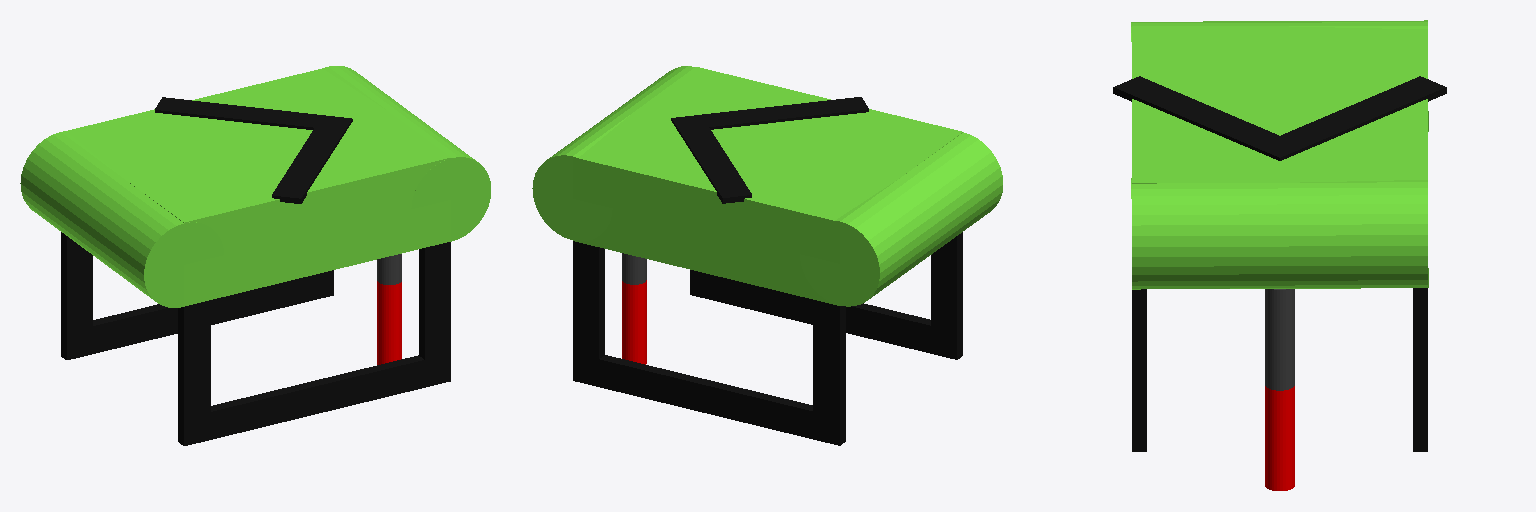
The robot description file, URDF, robot "toy_vehicle":
<robot name="toy_vehicle">

<!-- Materials -->
    <material name="gray">
        <color rgba="0.3 0.3 0.3 1"/>
    </material>
    <material name="transparent" >
        <color rgba="0.3 0.3 0.3 0.25" />
    </material>
    <material name="red" >
        <color rgba="1 0 0 0.8" />
    </material>
    <material name="green">
        <color rgba="0.5 0.9 0.3 1"/>
    </material>
    <material name="black">
        <color rgba=".1 .1 .1 1"/>
    </material>

<!-- Links -->
    <link name="base_link"/>

    <joint name="pitch_joint" type="revolute">
        <!-- <origin rpy="0 0 0" xyz="0 0 0"/> -->
        <parent link="base_link"/>
        <child link="vehicle"/>
        <origin rpy="0 0 0" xyz="0 0 0"/>
        <axis xyz="0 1 0"/>
    </joint>
  
    <link name="vehicle">
        <visual>
            <geometry>
                <box size="0.5 0.4 0.15"/>
            </geometry>
            <!-- <origin rpy="1.57075 0 0" xyz="0 0 0"/> -->
            <material name="green"/>
        </visual>
        <inertial>
            <!-- Actual *not added* -->
            <mass value="22.2"/> 
            <!-- Assume COM is 6cm below the center of the green box (13.5cm from top of vehicle) -->
            <origin xyz="0.0 0.0 -0.06"/>
            <inertia ixx=".75" ixy="0.0" ixz="0.0" iyy="1.4" iyz="0.0" izz="1.6"/>
        </inertial>
    </link>

    <joint name="joint1" type="revolute">
        <parent link="vehicle"/>
        <child link="link1"/>
        <origin rpy="0 0 0" xyz="0.25 0 -0.075"/>
        <axis xyz="0 1 0"/>
    </joint>

    <link name="link1">
        <visual>
            <geometry>
                <cylinder length="0.15" radius="0.020"/>
            </geometry>
            <material name="gray"/>
            <origin rpy="0 0 0" xyz="0 0 -.075"/>
        </visual>
        <inertial>
            <mass value="0.53"/>
            <origin xyz="0 0 -.075"/>
            <inertia ixx="0.00104" ixy="0." ixz="0." 
            iyy="0.00104" iyz="0.0" 
            izz="0.000106"/>
        </inertial>
    </link>

    <joint name="joint2" type="revolute">
        <parent link="link1"/>
        <child link="link2"/>
        <origin rpy="0 0 0" xyz="0 0 -.15"/>
        <axis xyz="0 1 0"/>
    </joint>

    <link name="link2">
        <visual>
            <geometry>
                <cylinder length="0.15" radius="0.020"/>
            </geometry>
            <material name="red"/>
            <origin rpy="0 0 0" xyz="0 0 -.075"/>
        </visual>
        <inertial>
            <mass value="0.53"/>
            <origin xyz="0 0 -.075"/>
            <inertia ixx="0.00104" ixy="0." ixz="0." 
            iyy="0.00104" iyz="0.0" 
            izz="0.000106"/>
        </inertial>
    </link>


<!-- Extra vehicle visuals -->
    <!-- Bumpers -->
    <link name="front_bumper">
        <visual>
        <geometry>
            <cylinder length="0.4" radius="0.075"/>
        </geometry>
        <material name="green"/>
        </visual>
    </link>

    <joint name="fbump_link" type="fixed">
        <parent link="vehicle"/>
        <child link="front_bumper"/>
        <origin rpy="1.57579632679 0 0" xyz="0.25 0 0"/>
    </joint>

    <link name="rear_bumper">
        <visual>
            <geometry>
            <cylinder length="0.4" radius="0.075"/>
            </geometry>
            <material name="green"/>
        </visual>
    </link>

    <joint name="rbump_link" type="fixed">
        <parent link="vehicle"/>
        <child link="rear_bumper"/>
        <origin rpy="1.57579632679 0 0" xyz="-0.25 0 0"/>
    </joint>

    <!-- Arrow -->
    <link name="l_arrow">
        <visual>
        <geometry>
            <box size="0.05 0.318 0.01"/>
        </geometry>
        <material name="black"/>
        </visual>
    </link>
    <joint name="l_arrow_link" type="fixed">
        <parent link="vehicle"/>
        <child link="l_arrow"/>
        <origin rpy="0 0 0.787898163397" xyz="0.05 0.095 0.075"/>
    </joint>
    <link name="r_arrow">
        <visual>
            <geometry>
                <box size="0.05 0.318 0.01"/>
            </geometry>
        <material name="black"/>
        </visual>
    </link>
    <joint name="r_arrow_link" type="fixed">
        <parent link="vehicle"/>
        <child link="r_arrow"/>
        <origin rpy="0 0 -0.787898163397" xyz="0.05 -0.095 0.075"/>
    </joint>

    <!-- Frame -->
    <link name="F_R_bar">
        <visual>
        <geometry>
            <box size = "0.25 0.02 0.05"/>
        </geometry>
        <material name="black"/>
        </visual>
    </link>
    <joint name="FRBarJoint" type="fixed">
        <parent link="vehicle"/>
        <child link="F_R_bar"/>
        <origin rpy="0 1.57075 0" xyz="0.225 -.19 -.2"/>
    </joint>
    <link name="F_L_bar">
        <visual>
        <geometry>
            <box size = "0.25 0.02 0.05"/>
        </geometry>
        <material name="black"/>
        </visual>
    </link>
        <joint name="FLBarJoint" type="fixed">
        <parent link="vehicle"/>
        <child link="F_L_bar"/>
        <origin rpy="0 1.57075 0" xyz="0.225 .19 -.2"/>
        </joint>
    <link name="B_L_bar">
        <visual>
            <geometry>
            <box size = "0.25 0.02 0.05"/>
            </geometry>
            <material name="black"/>
        </visual>
    </link>
        <joint name="BLBarJoint" type="fixed">
        <parent link="vehicle"/>
        <child link="B_L_bar"/>
        <origin rpy="0 1.57075 0" xyz="-0.225 .19 -.2"/>
        </joint>
    <link name="B_R_bar">
        <visual>
        <geometry>
            <box size = "0.25 0.02 0.05"/>
        </geometry>
        <material name="black"/>
        </visual>
    </link>
        <joint name="BRBarJoint" type="fixed">
        <parent link="vehicle"/>
        <child link="B_R_bar"/>
        <origin rpy="0 1.57075 0" xyz="-0.225 -.19 -.2"/>
        </joint>
    <link name="R_bar">
        <visual>
        <geometry>
            <box size = "0.5 0.02 0.05"/>
        </geometry>
        <material name="black"/>
        </visual>
    </link>
        <joint name="RBarJoint" type="fixed">
        <parent link="vehicle"/>
        <child link="R_bar"/>
        <origin rpy="0 0 0" xyz="0 -.19 -.3"/>
        </joint>
    <link name="L_bar">
        <visual>
        <geometry>
            <box size = "0.5 0.02 0.05"/>
        </geometry>
        <material name="black"/>
        </visual>
    </link>
        <joint name="LBarJoint" type="fixed">
        <parent link="vehicle"/>
        <child link="L_bar"/>
        <origin rpy="0 0 0" xyz="0 .19 -.3"/>
        </joint>


</robot>

--- Render facts (derived) ---
Views: 3 orthographic renders of the robot side by side, from view 1: azimuth 30°, elevation 25°; view 2: azimuth 150°, elevation 25°; view 3: azimuth 270°, elevation 25°.
Robot: toy_vehicle — 14 links, 13 joints (3 revolute, 10 fixed); root link base_link; default pose: all joints at 0.
Visible links, largest first — view 1: vehicle, rear_bumper, R_bar, L_bar, front_bumper, F_R_bar, B_R_bar, B_L_bar, r_arrow, l_arrow, link2, link1; view 2: vehicle, rear_bumper, L_bar, R_bar, front_bumper, F_L_bar, B_L_bar, r_arrow, B_R_bar, l_arrow, link2, link1 (+1 smaller); view 3: vehicle, front_bumper, l_arrow, r_arrow, link2, link1, F_L_bar, F_R_bar, rear_bumper.
Link boxes in pixels (bbox=[...]): vehicle: bbox=[67, 68, 450, 306]; rear_bumper: bbox=[20, 131, 223, 307]; R_bar: bbox=[178, 355, 439, 445]; L_bar: bbox=[61, 271, 333, 359]; front_bumper: bbox=[323, 66, 490, 241]; F_R_bar: bbox=[419, 242, 450, 387]; B_R_bar: bbox=[178, 300, 210, 445]; B_L_bar: bbox=[61, 232, 92, 359]; r_arrow: bbox=[272, 116, 352, 203]; l_arrow: bbox=[155, 97, 351, 129]; link2: bbox=[377, 281, 401, 364]; link1: bbox=[377, 254, 401, 284]; vehicle: bbox=[573, 67, 962, 305]; rear_bumper: bbox=[800, 132, 1002, 306]; L_bar: bbox=[575, 355, 845, 445]; R_bar: bbox=[690, 272, 962, 359]; front_bumper: bbox=[532, 66, 694, 241]; F_L_bar: bbox=[573, 241, 604, 383]; B_L_bar: bbox=[813, 300, 845, 433]; r_arrow: bbox=[672, 97, 868, 129]; B_R_bar: bbox=[931, 232, 962, 354]; l_arrow: bbox=[671, 115, 751, 203]; link2: bbox=[622, 280, 646, 364]; link1: bbox=[622, 253, 646, 284]; vehicle: bbox=[1132, 26, 1427, 183]; front_bumper: bbox=[1131, 178, 1428, 289]; l_arrow: bbox=[1256, 76, 1446, 160]; r_arrow: bbox=[1113, 76, 1295, 160]; link2: bbox=[1265, 386, 1294, 490]; link1: bbox=[1265, 289, 1294, 390]; F_L_bar: bbox=[1413, 288, 1427, 451]; F_R_bar: bbox=[1132, 289, 1146, 451]; rear_bumper: bbox=[1131, 20, 1428, 131].
Size in the robot's own frame: 0.65 by 0.4497 by 0.455 metres.
Geometry: primitives only (box / cylinder / sphere), no mesh files.